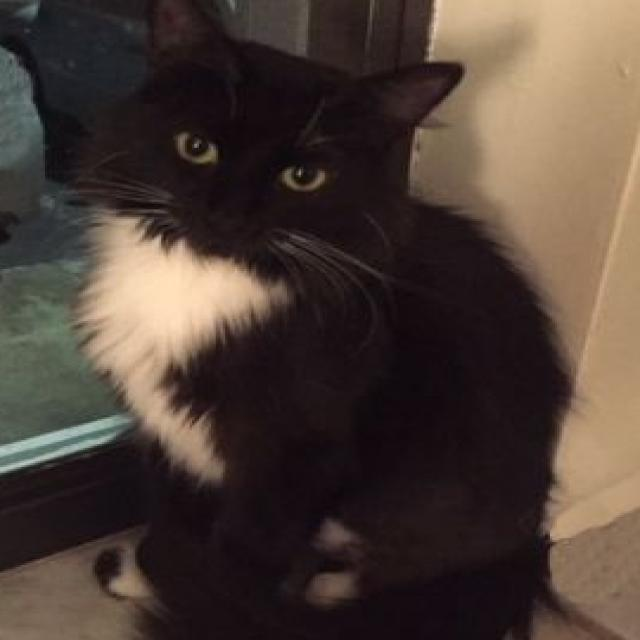Tuxedo: (73, 0, 576, 640)
